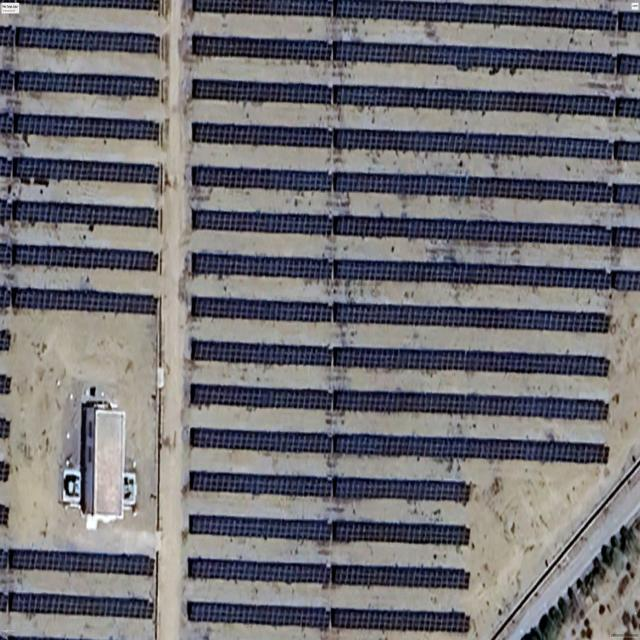Solar Panels: (192, 79, 640, 118), (192, 165, 640, 204), (192, 35, 640, 73), (192, 210, 640, 248), (193, 122, 640, 160), (189, 427, 609, 464), (191, 297, 610, 334), (190, 383, 608, 420), (192, 341, 609, 377), (191, 0, 640, 32), (187, 601, 470, 633), (335, 303, 610, 333), (335, 260, 609, 289), (0, 113, 160, 142), (0, 27, 160, 54), (0, 70, 160, 97), (0, 157, 159, 184), (13, 200, 159, 228), (12, 288, 158, 315), (192, 252, 332, 280), (9, 549, 154, 576), (9, 592, 153, 619), (13, 245, 158, 271), (188, 558, 331, 584), (333, 476, 470, 503), (190, 471, 332, 497), (191, 165, 332, 191), (192, 210, 332, 236), (189, 515, 332, 540), (333, 520, 470, 546), (332, 565, 470, 589), (612, 271, 640, 291), (614, 227, 640, 248), (614, 140, 640, 161), (614, 184, 640, 204), (618, 10, 640, 32), (616, 98, 640, 118), (618, 54, 640, 75), (0, 199, 11, 225), (0, 244, 12, 265), (0, 329, 11, 351), (0, 287, 11, 308), (0, 374, 11, 394), (0, 461, 10, 482), (0, 417, 10, 438), (0, 504, 9, 526), (0, 592, 8, 612), (0, 549, 8, 569)
